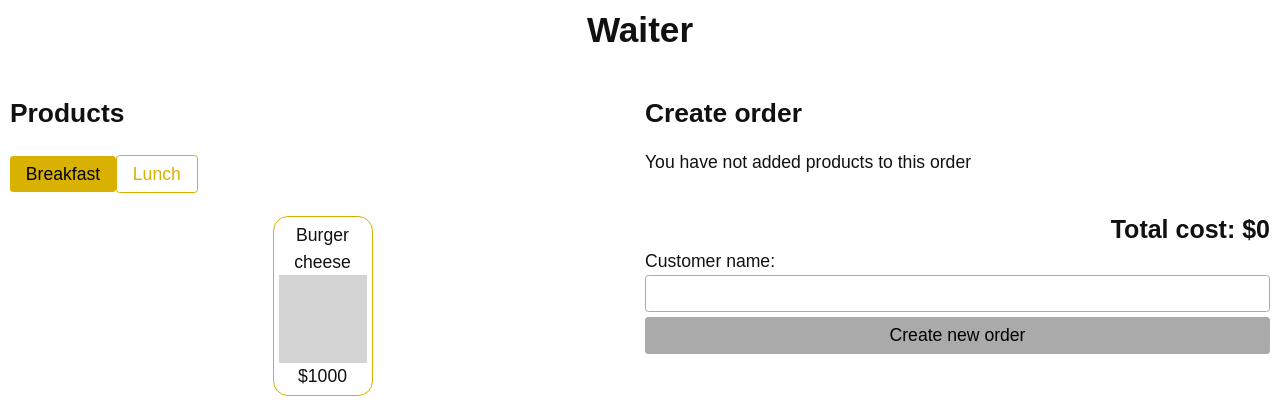
Test: <Waiter /> › Should make request with correct params on submit the order
Type "Kvn" into the field labelled "Customer name:" at {"x": 958, "y": 293}, box 645,275 -> 1270,312
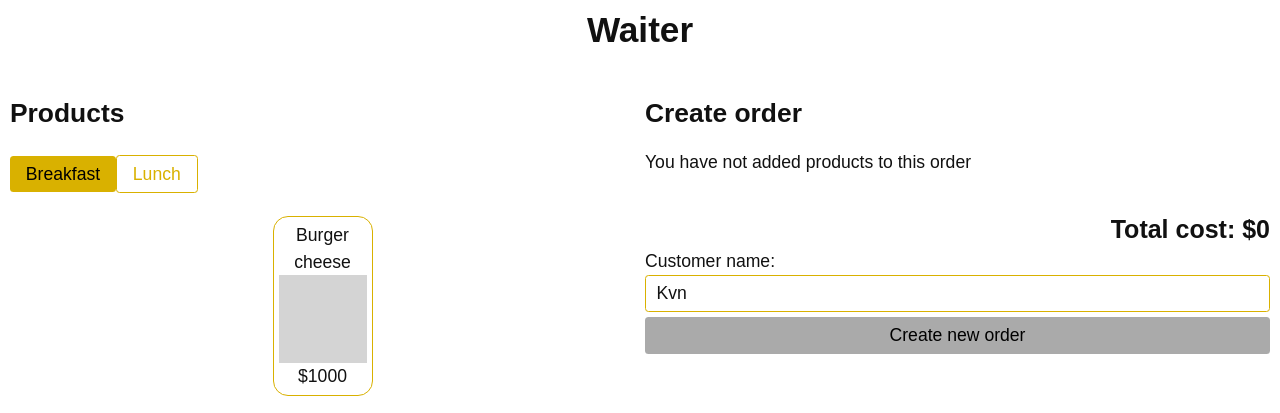
Click the list item at {"x": 322, "y": 306}, box 272,216 -> 372,396
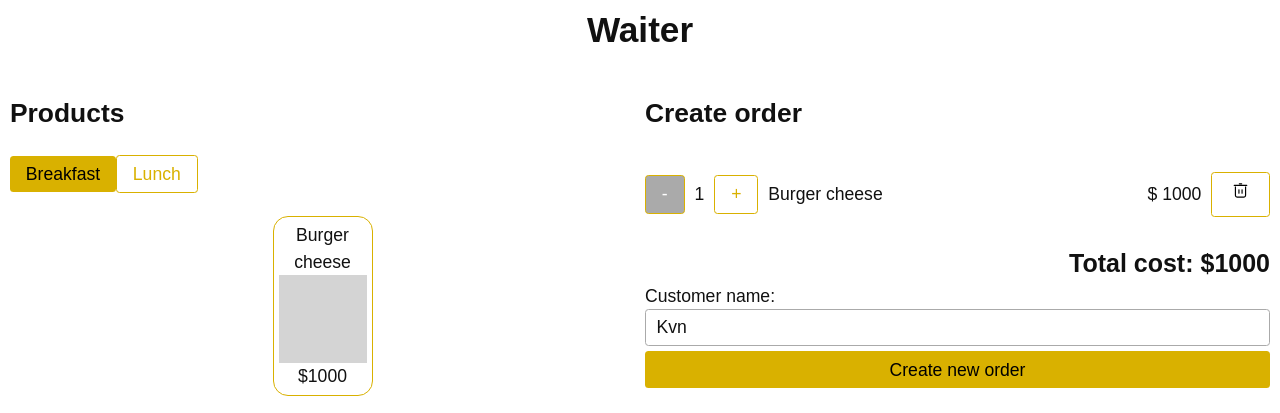
Click the list item "Burger cheese $1000" at {"x": 322, "y": 306}, box 272,216 -> 372,396
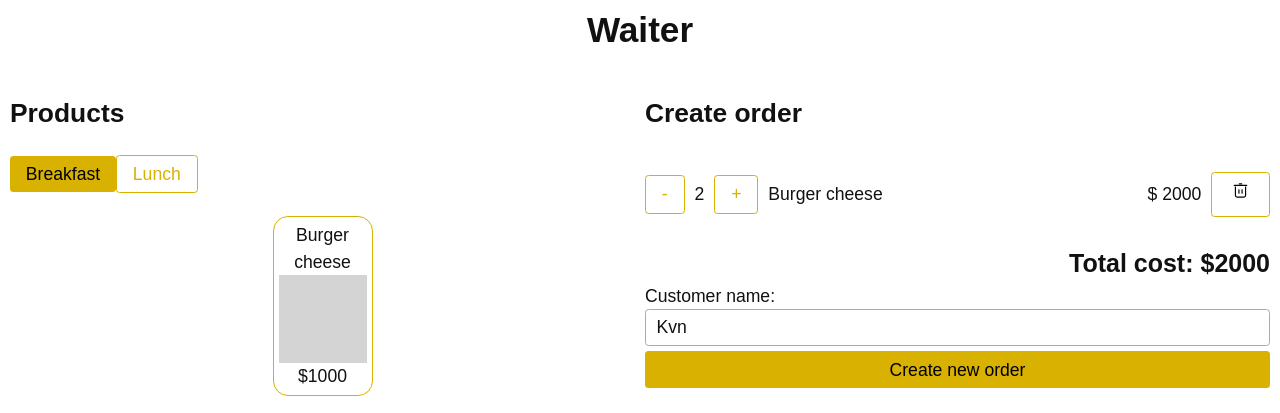
Click the button "Create new order" at {"x": 958, "y": 370}, box 645,351 -> 1270,388
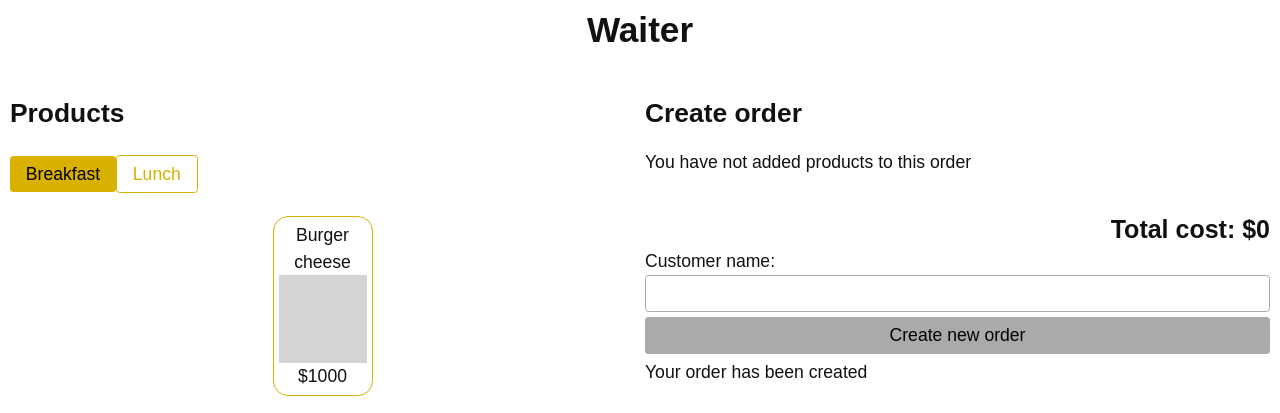
Expected: the text "Your order has been created" is shown, 645,362 -> 867,382
